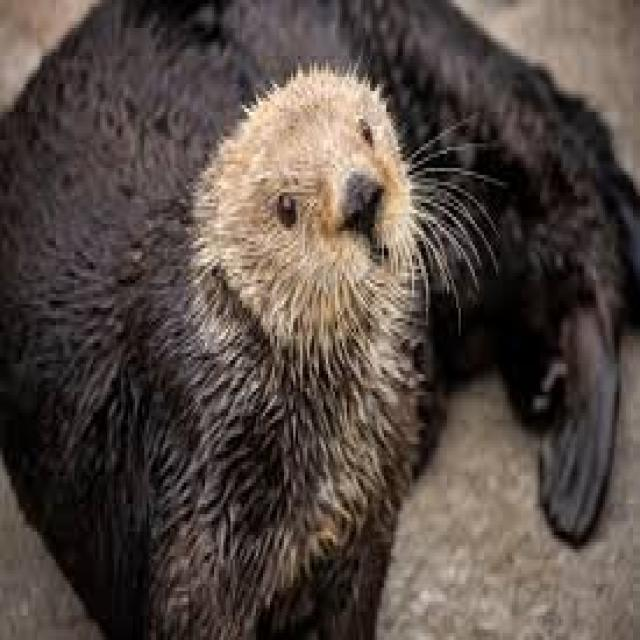Otter: (8, 12, 614, 622)
